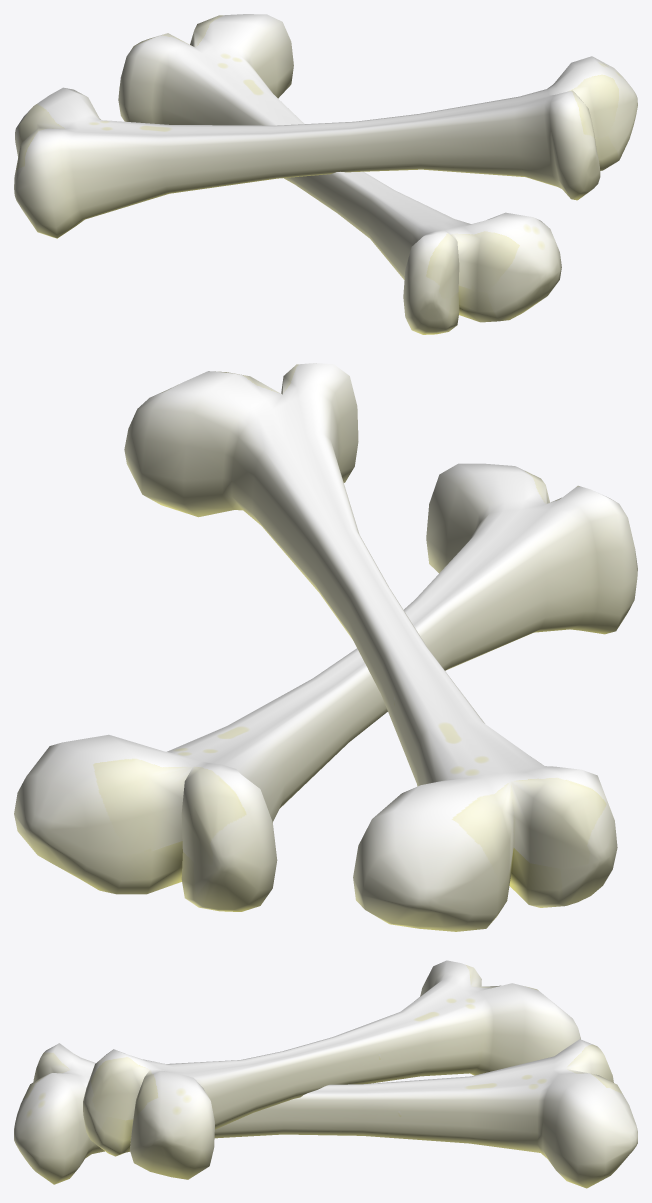
Rendered from huesos.fbx.
The picture shows the model from 3 angles, top to bottom: view 1: azimuth 30°, elevation 25°; view 2: azimuth 150°, elevation 25°; view 3: azimuth 270°, elevation 25°; orthographic projection. The views are drawn at different scales.
Visible parts, largest first — view 1: hueso1, hueso; view 2: hueso1, hueso; view 3: hueso1, hueso.
Boxes of the visible parts, x1,y1,x2,y2 form: hueso1: (14, 56, 637, 238); hueso: (118, 14, 561, 334); hueso1: (124, 363, 617, 931); hueso: (14, 463, 637, 911); hueso1: (83, 960, 580, 1179); hueso: (14, 1039, 637, 1188).
Bounding box in the file's own units: 0.5428 × 0.1947 × 0.6337.
